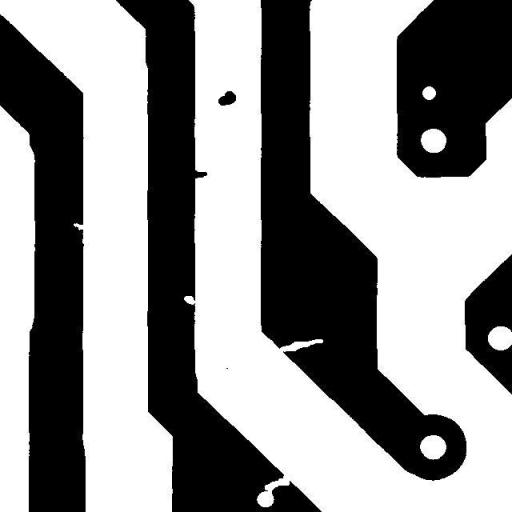copper: (210, 83, 244, 113)
mousebite: (272, 331, 330, 359), (176, 288, 202, 312), (66, 215, 92, 238)
open: (257, 468, 297, 498)
pin-hole: (414, 78, 444, 108)
spur: (184, 162, 214, 186)
